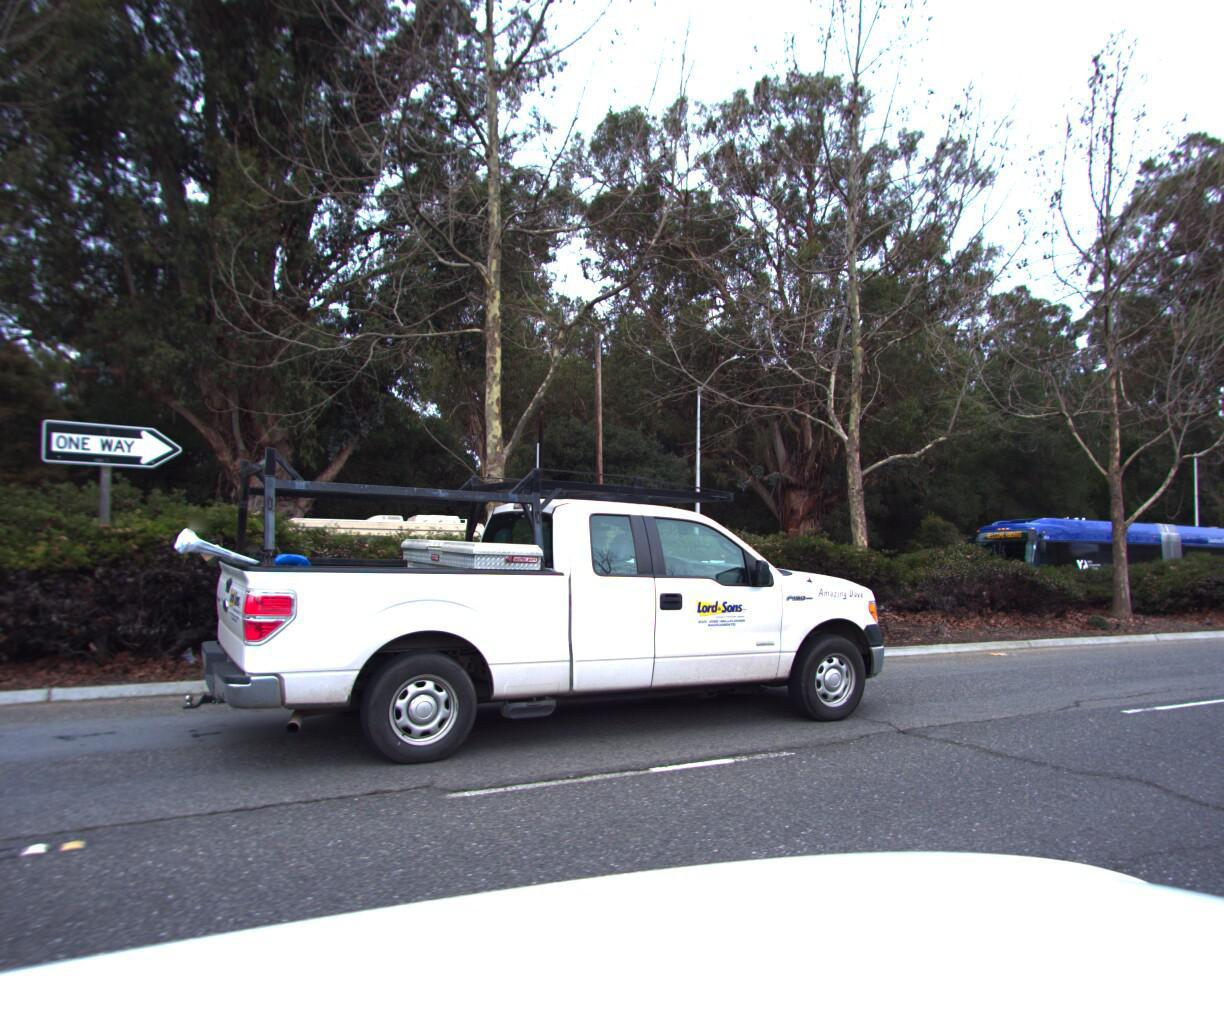bus: (964, 504, 1224, 597)
car: (155, 433, 899, 798)
other_vehicle: (215, 495, 505, 623)
